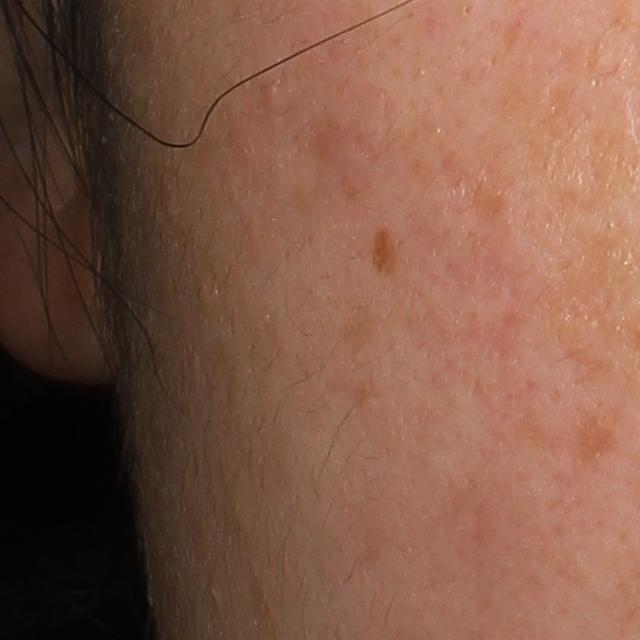comedo: (263, 81, 283, 98), (460, 1, 474, 17)
melasma: (370, 228, 401, 273)
